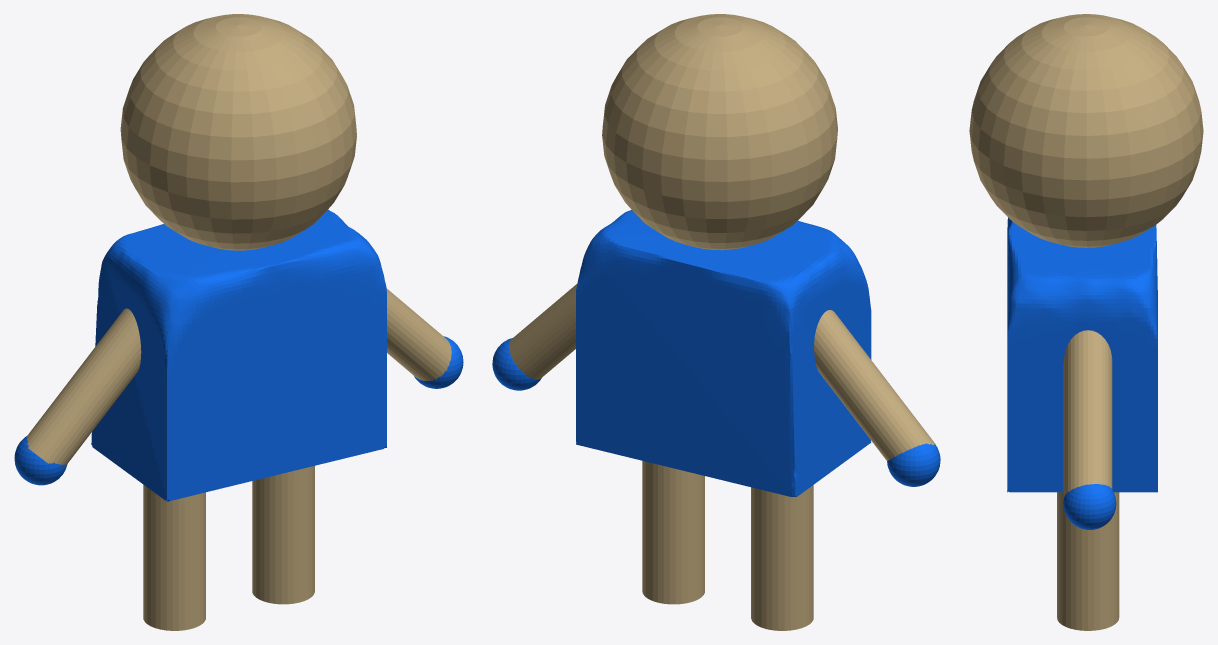
File: Blue playerr.fbx
3 renders of one model, left to right at view 1: azimuth 30°, elevation 25°; view 2: azimuth 150°, elevation 25°; view 3: azimuth 270°, elevation 25°, orthographic.
Parts seen in each view (by area): view 1: Cube.001, Sphere.001, Cylinder.004, Cylinder.005, Cylinder.007, Cylinder.006, Sphere.005, Sphere.004; view 2: Cube.001, Sphere.001, Cylinder.004, Cylinder.005, Cylinder.007, Cylinder.006, Sphere.005, Sphere.004; view 3: Sphere.001, Cube.001, Cylinder.006, Cylinder.005, Sphere.004.
Part boxes in pixels (<box>): Cube.001: <box>91,209,386,501</box>; Sphere.001: <box>120,14,356,250</box>; Cylinder.004: <box>143,484,205,630</box>; Cylinder.005: <box>252,466,314,604</box>; Cylinder.007: <box>26,308,141,464</box>; Cylinder.006: <box>386,288,451,380</box>; Sphere.005: <box>14,436,67,485</box>; Sphere.004: <box>414,336,463,388</box>; Cube.001: <box>576,210,871,496</box>; Sphere.001: <box>602,14,837,250</box>; Cylinder.004: <box>751,485,813,630</box>; Cylinder.005: <box>642,461,704,604</box>; Cylinder.007: <box>814,310,935,460</box>; Cylinder.006: <box>509,284,577,379</box>; Sphere.005: <box>887,443,940,486</box>; Sphere.004: <box>492,338,541,390</box>; Sphere.001: <box>969,14,1203,247</box>; Cube.001: <box>1007,217,1157,492</box>; Cylinder.006: <box>1063,330,1112,498</box>; Cylinder.005: <box>1057,492,1119,630</box>; Sphere.004: <box>1063,484,1116,529</box>.
Bounding box in the file's own units: 517 × 646 × 240.
